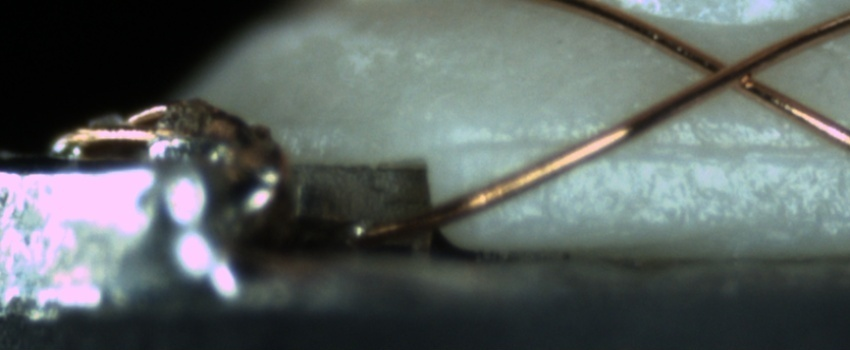CL: (685, 39, 782, 100)
DL: (445, 118, 849, 173)
TE: (44, 97, 267, 158)
